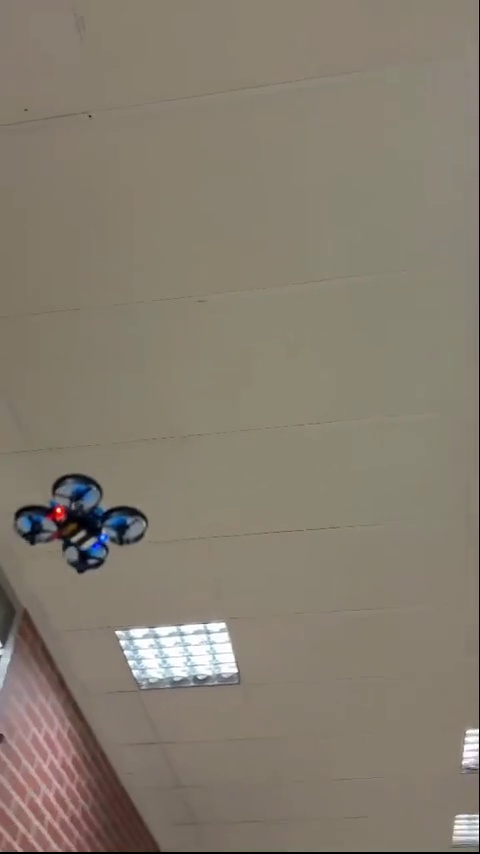drone: (15, 469, 155, 580)
